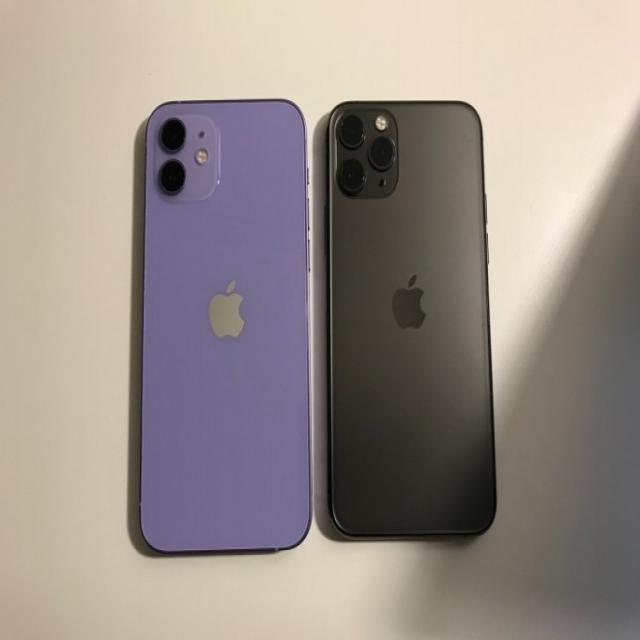phone: (326, 99, 494, 544), (143, 103, 309, 553)
